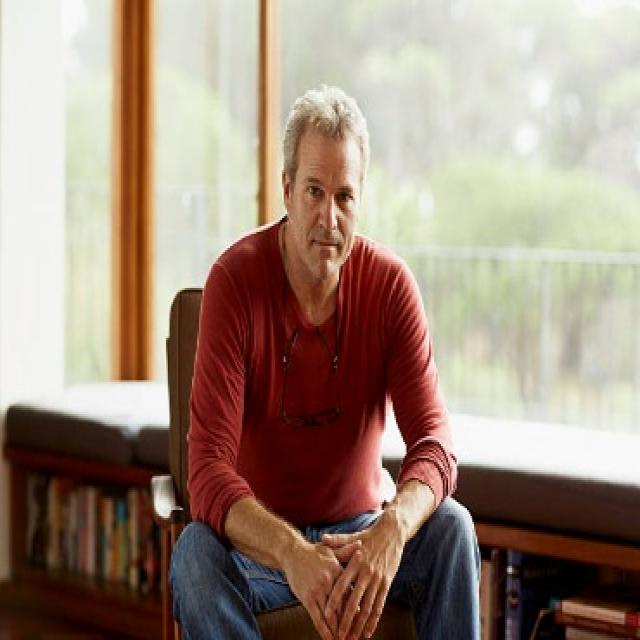adult: (150, 82, 494, 640)
